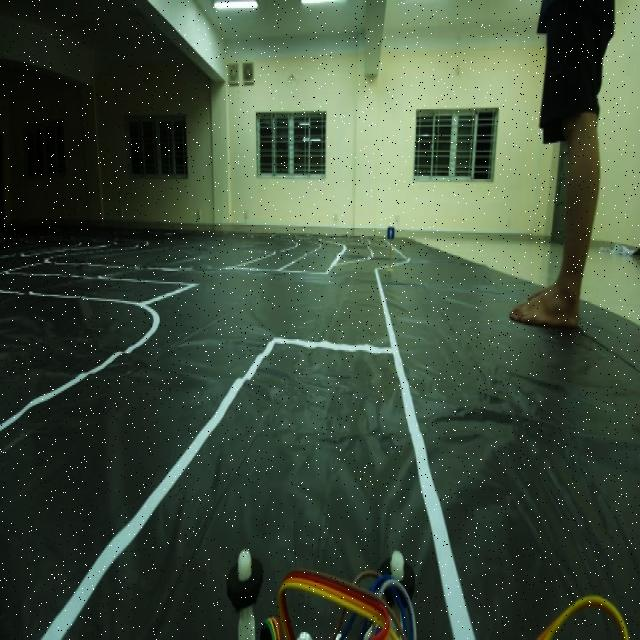onewayroad: (385, 223, 395, 246)
